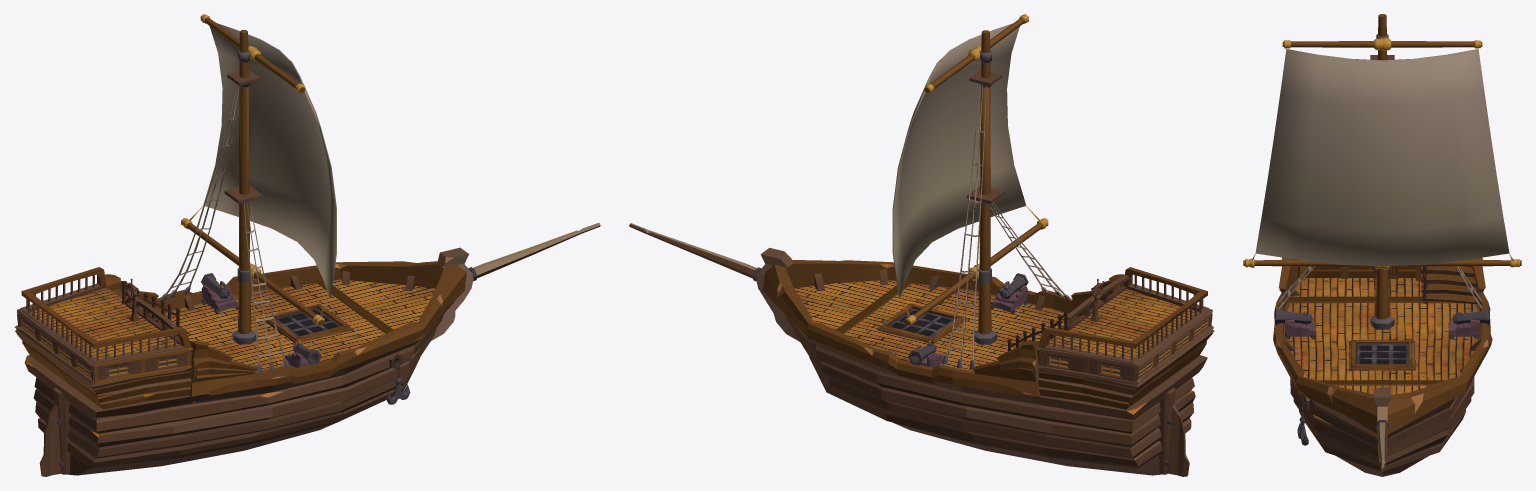
The model's file is Shiip_0 - Copy.fbx.
3 views of the same model, side by side, from view 1: azimuth 30°, elevation 25°; view 2: azimuth 150°, elevation 25°; view 3: azimuth 270°, elevation 25° (orthographic).
Visible parts, largest first — view 1: ship hull_0, sail_0, captain_ floor_0, side of the ship, mast_0, rope ladder.001, manhole_0, steering fin_0, Cannon_0.001; view 2: ship hull_0, sail_0, captain_ floor_0, side of the ship, mast_0, rope ladder.001, manhole_0, steering fin_0, Cannon_0, Cannon_0.001; view 3: sail_0, ship hull_0, side of the ship, mast_0, captain_ floor_0, manhole_0, Cannon_0.001, Cannon_0, rope ladder.001, Anchor_0.
Boxes of the visible parts, x1,y1,x2,y2 form: ship hull_0: [24, 279, 454, 475]; sail_0: [189, 23, 336, 316]; captain_ floor_0: [14, 267, 194, 409]; side of the ship: [105, 223, 600, 396]; mast_0: [181, 14, 324, 344]; rope ladder.001: [159, 85, 289, 372]; manhole_0: [263, 304, 352, 343]; steering fin_0: [39, 404, 65, 476]; Cannon_0.001: [201, 273, 238, 314]; ship hull_0: [786, 280, 1207, 475]; sail_0: [892, 23, 1039, 316]; captain_ floor_0: [1007, 267, 1214, 409]; side of the ship: [629, 223, 1124, 396]; mast_0: [905, 14, 1048, 344]; rope ladder.001: [942, 84, 1072, 369]; manhole_0: [877, 303, 966, 343]; steering fin_0: [1164, 404, 1189, 476]; Cannon_0: [991, 273, 1028, 314]; Cannon_0.001: [908, 340, 944, 367]; sail_0: [1251, 48, 1513, 266]; ship hull_0: [1283, 278, 1480, 476]; side of the ship: [1273, 257, 1492, 471]; mast_0: [1243, 14, 1521, 329]; captain_ floor_0: [1298, 259, 1478, 304]; manhole_0: [1349, 340, 1415, 370]; Cannon_0.001: [1448, 308, 1489, 339]; Cannon_0: [1275, 308, 1316, 339]; rope ladder.001: [1278, 266, 1481, 308]; Anchor_0: [1297, 395, 1309, 445].
Size of the model in its own units: 1148 by 494 by 810.
